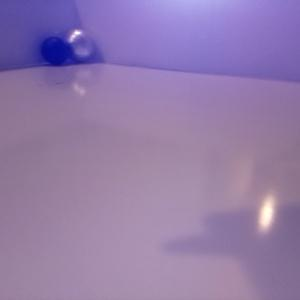alive_ball: (65, 27, 95, 61)
dead_ball: (40, 35, 70, 65)
